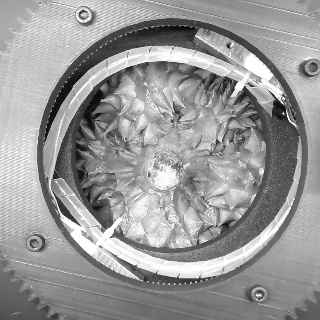base: (136, 144, 188, 195)
end: (148, 152, 183, 191)
